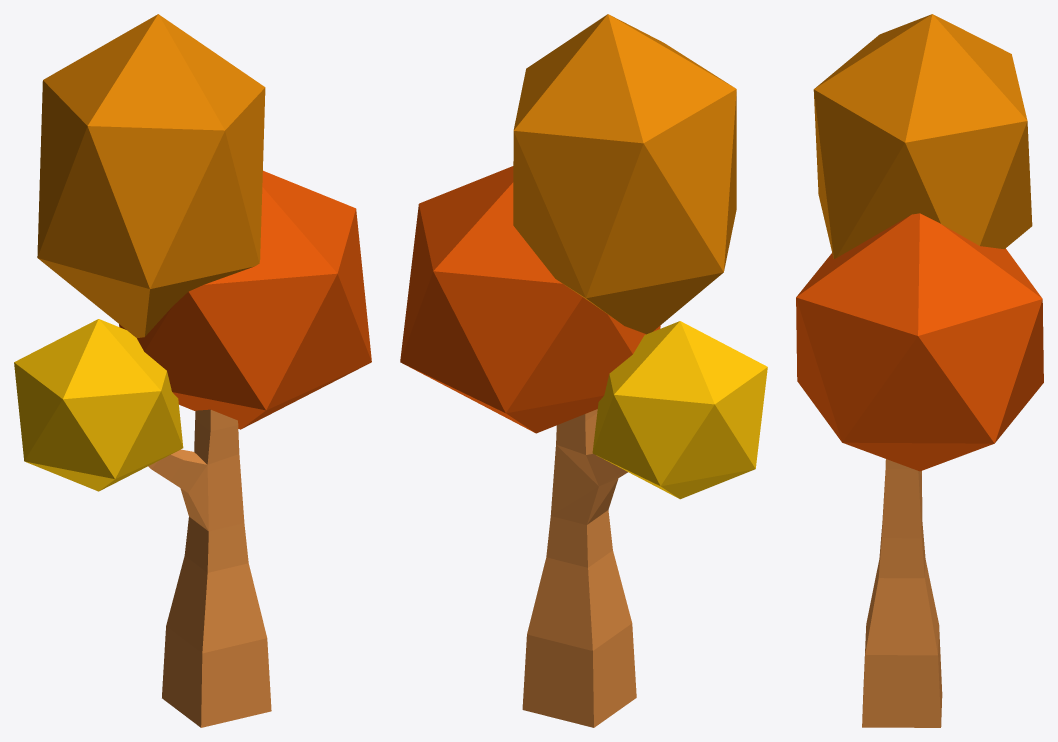
Rendered from Pohon Oren .fbx.
The picture shows the model from 3 angles, left to right: view 1: azimuth 30°, elevation 25°; view 2: azimuth 150°, elevation 25°; view 3: azimuth 270°, elevation 25°; orthographic projection. The views are drawn at different scales.
Visible parts, largest first — view 1: Pohon Oren; view 2: Pohon Oren; view 3: Pohon Oren.
Boxes of the visible parts, x1,y1,x2,y2 form: Pohon Oren: (14, 14, 371, 727); Pohon Oren: (400, 14, 767, 727); Pohon Oren: (796, 14, 1043, 727).
Size of the model in its own units: 2.94 by 5.9 by 1.96.
